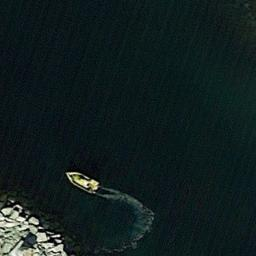boat: (62, 170, 102, 196)
